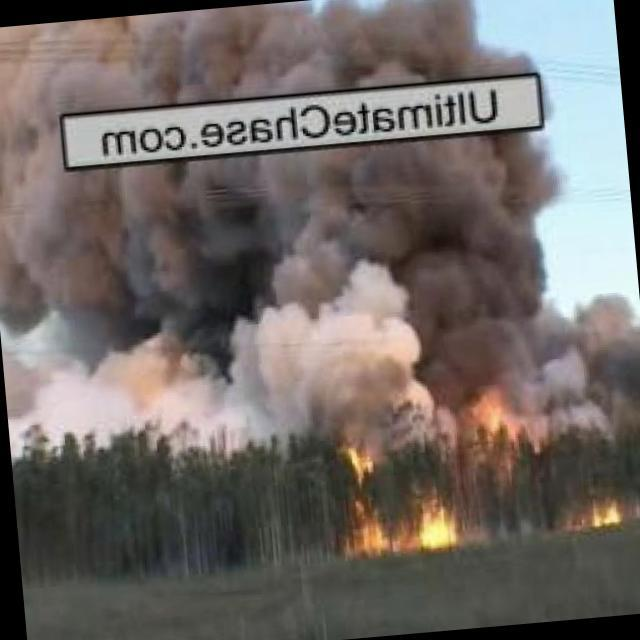Fire: (336, 444, 462, 560), (466, 370, 523, 456), (578, 501, 620, 528)
